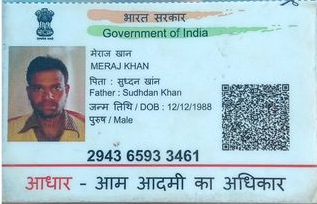aadhaar: (1, 2, 316, 202)
